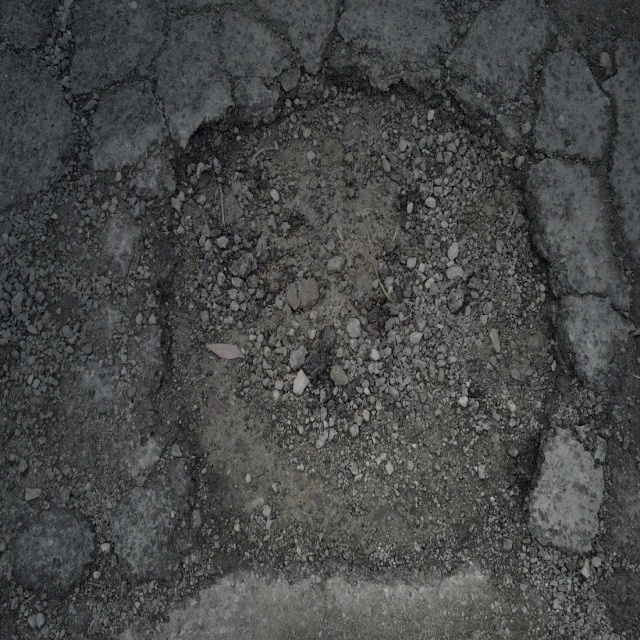pothole: (153, 61, 574, 591)
